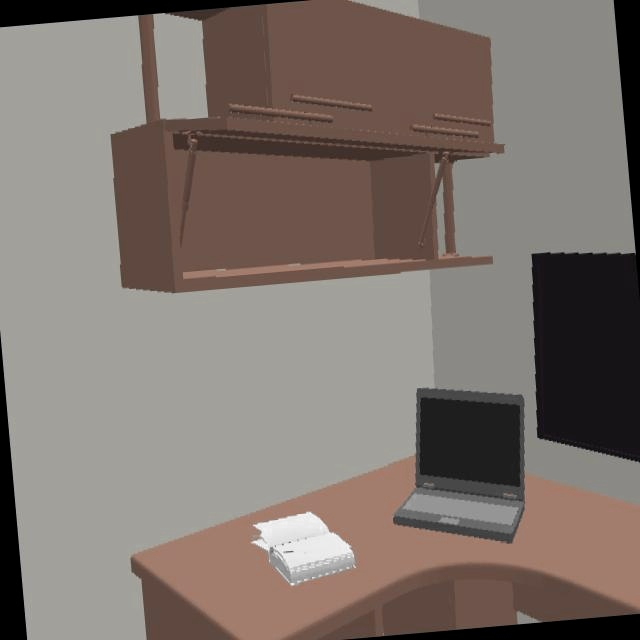book: (253, 512, 354, 583)
cabinet: (111, 0, 502, 291)
laptop: (393, 388, 525, 541)
monitor: (533, 253, 640, 461)
table: (130, 458, 640, 640)
